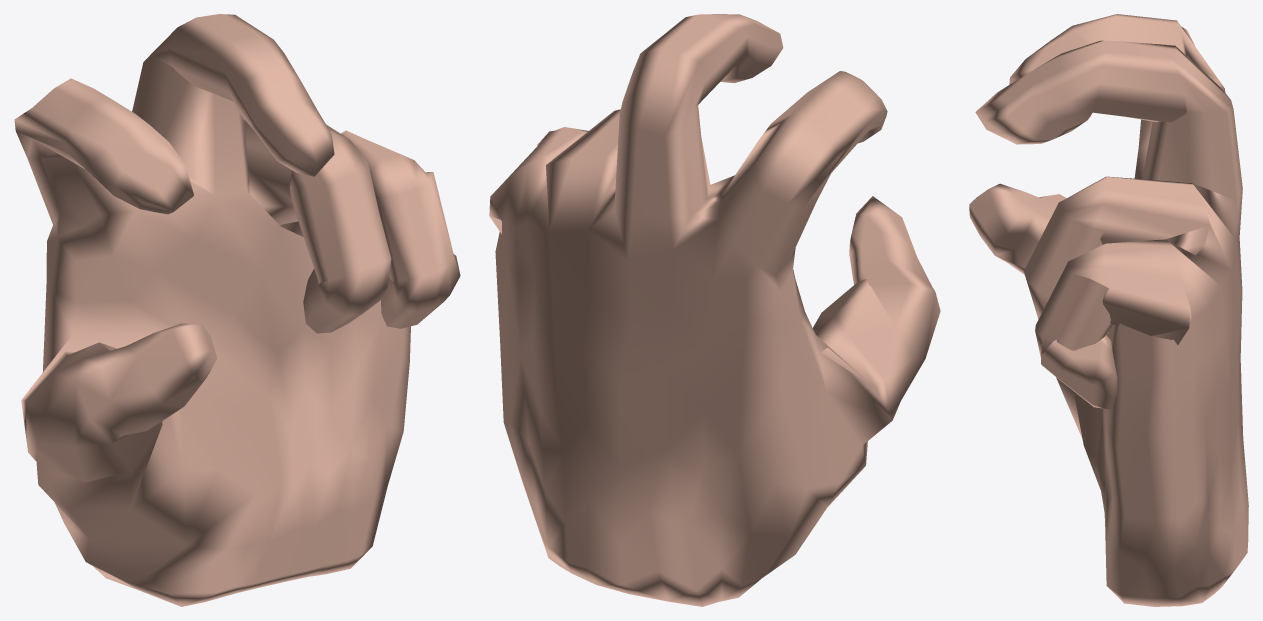
The model's file is FLEXIONADO3.obj.
The picture shows the model from 3 angles, left to right: view 1: azimuth 30°, elevation 25°; view 2: azimuth 150°, elevation 25°; view 3: azimuth 270°, elevation 25°; orthographic projection. The views are drawn at different scales.
Visible parts, largest first — view 1: mao_dir polySurface1; view 2: mao_dir polySurface1; view 3: mao_dir polySurface1.
Part boxes in pixels (left/top/right/bottom): mao_dir polySurface1: left=14, top=14, right=460, bottom=606; mao_dir polySurface1: left=489, top=14, right=940, bottom=606; mao_dir polySurface1: left=969, top=14, right=1248, bottom=606.
Bounding box in the file's own units: 138 × 188 × 93.71.
